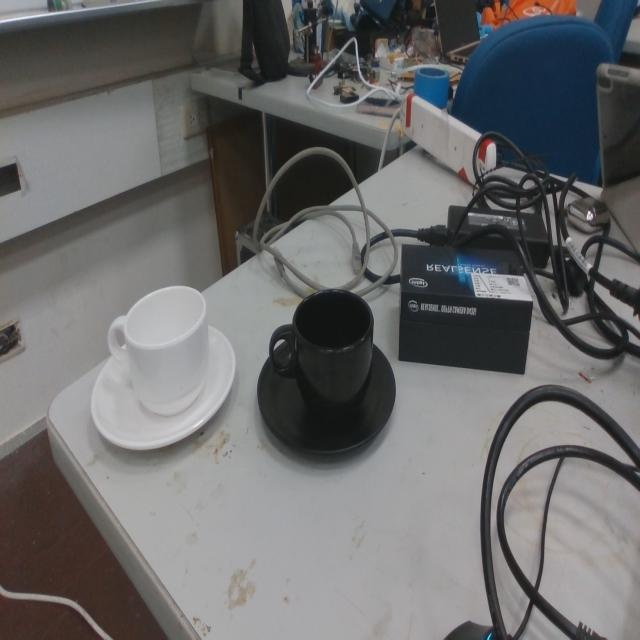black: (254, 284, 398, 468)
white: (88, 281, 237, 458)
